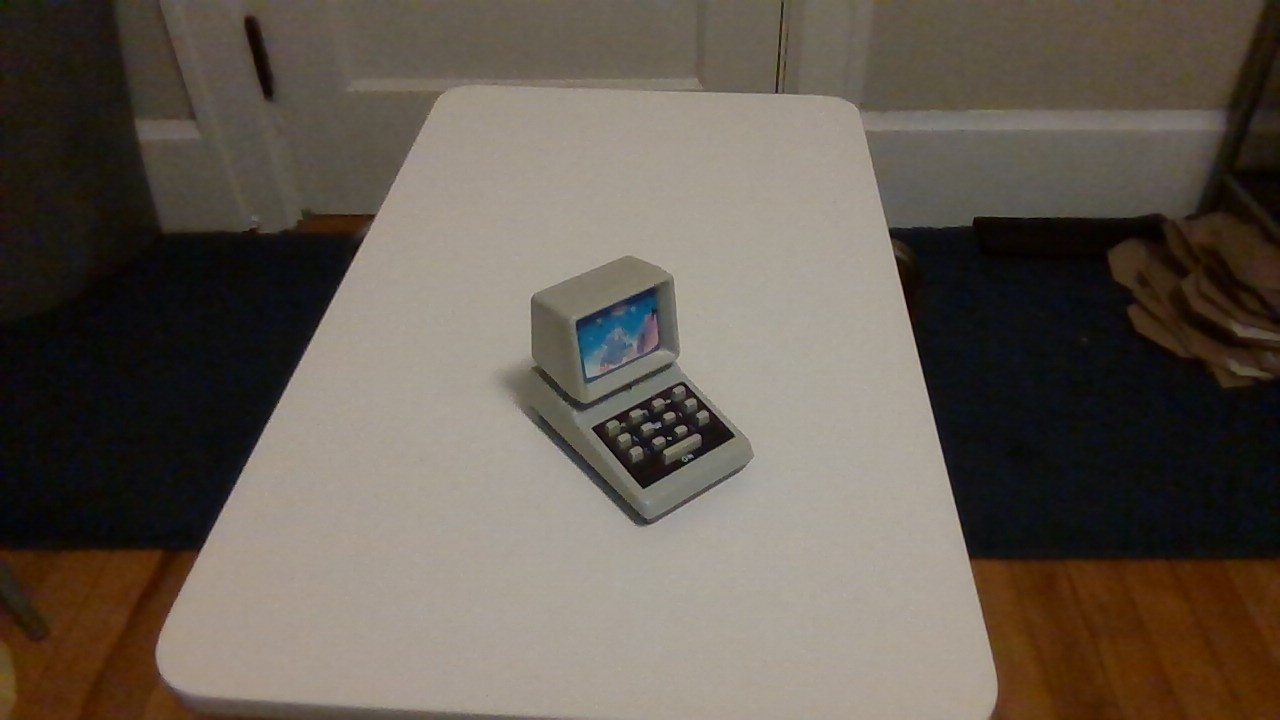Toy: (514, 244, 770, 535)
